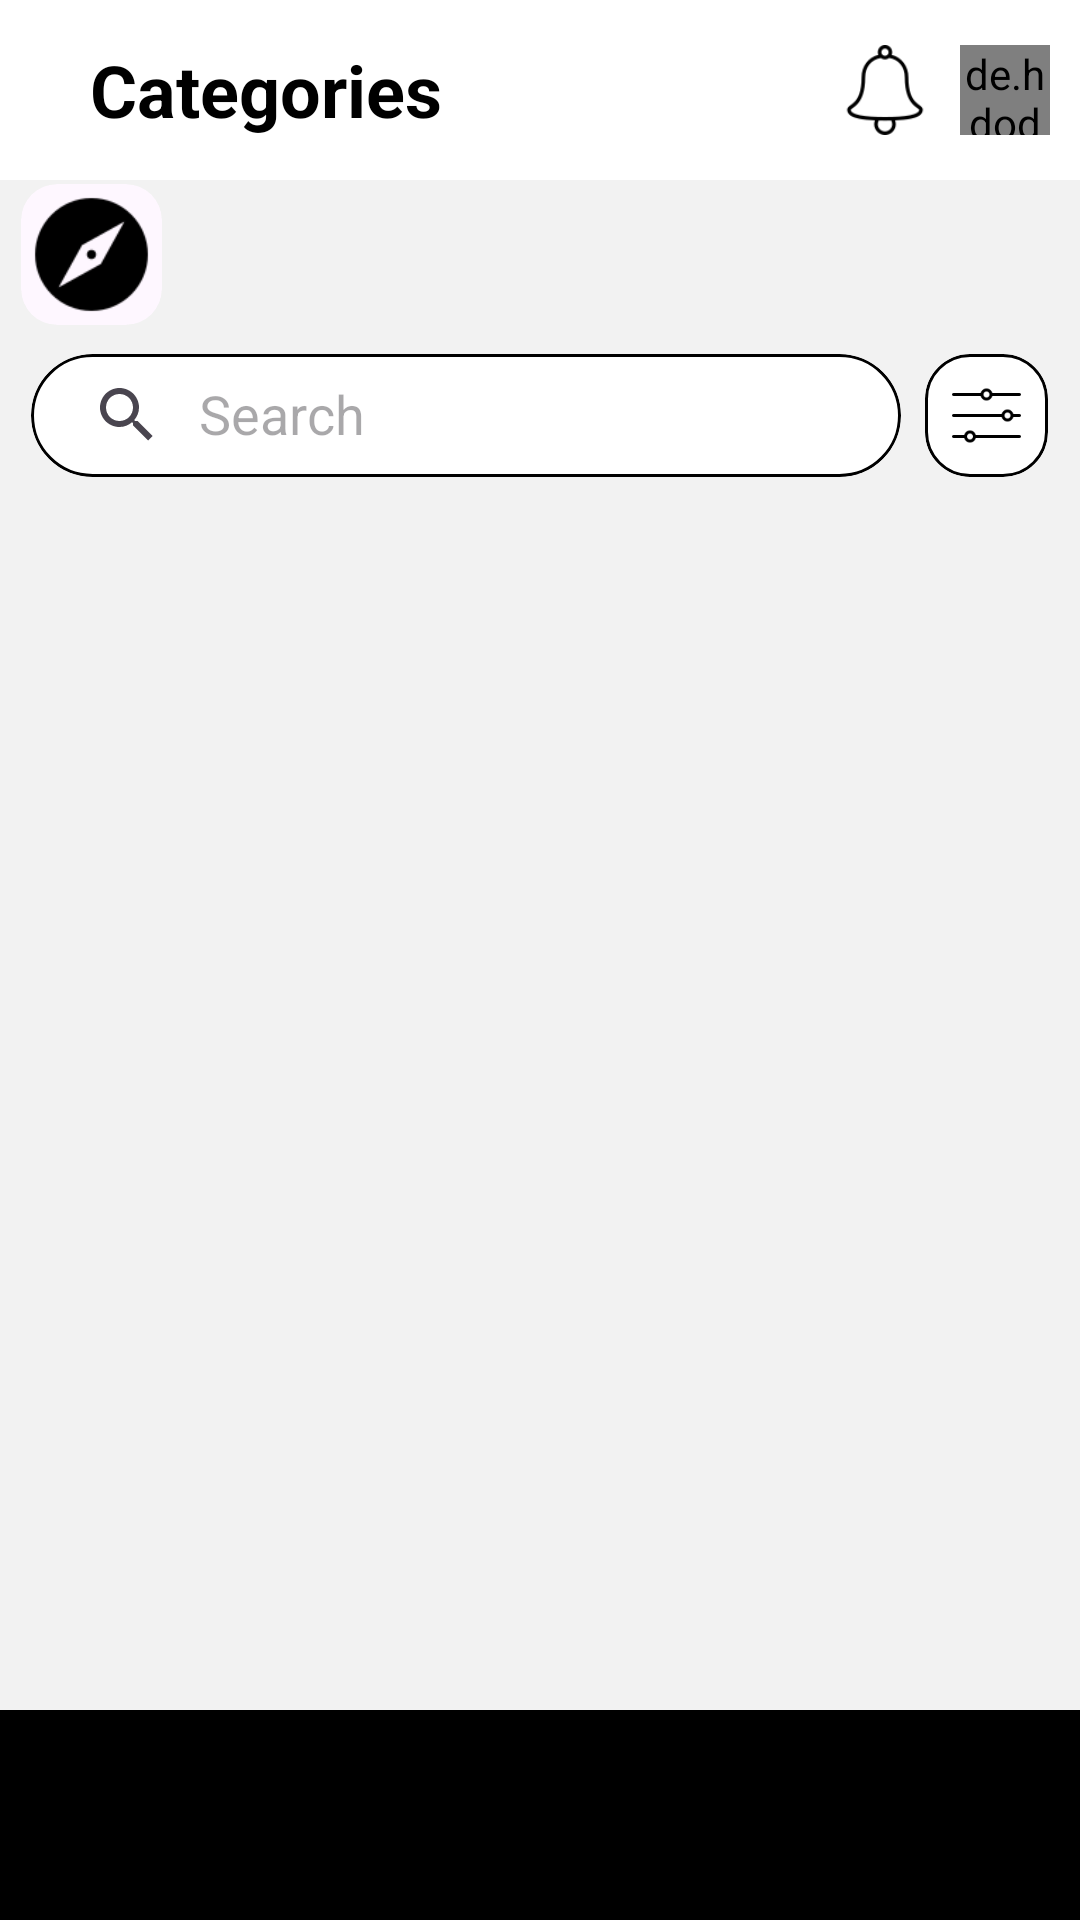

Named icons in this screenshot (1080x1920) and their centers, point (x, y):
compass: point (91, 254)
filters: point (986, 415)
notification: point (885, 90)
